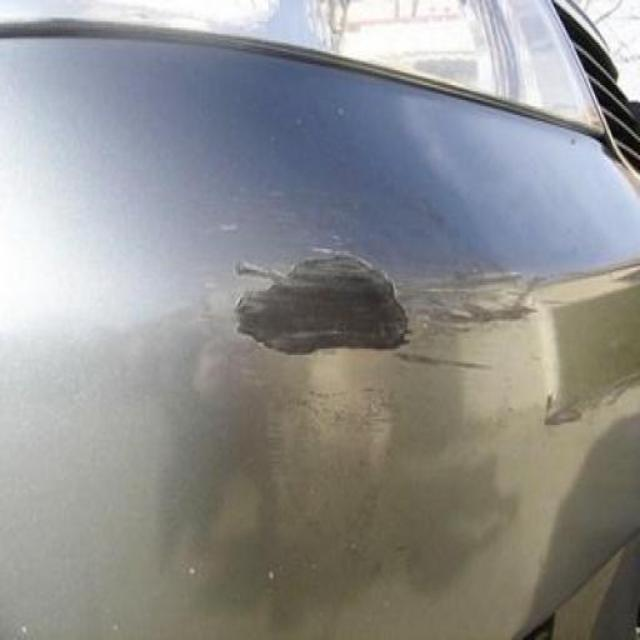dent: (539, 389, 586, 427)
rub: (229, 242, 411, 359)
